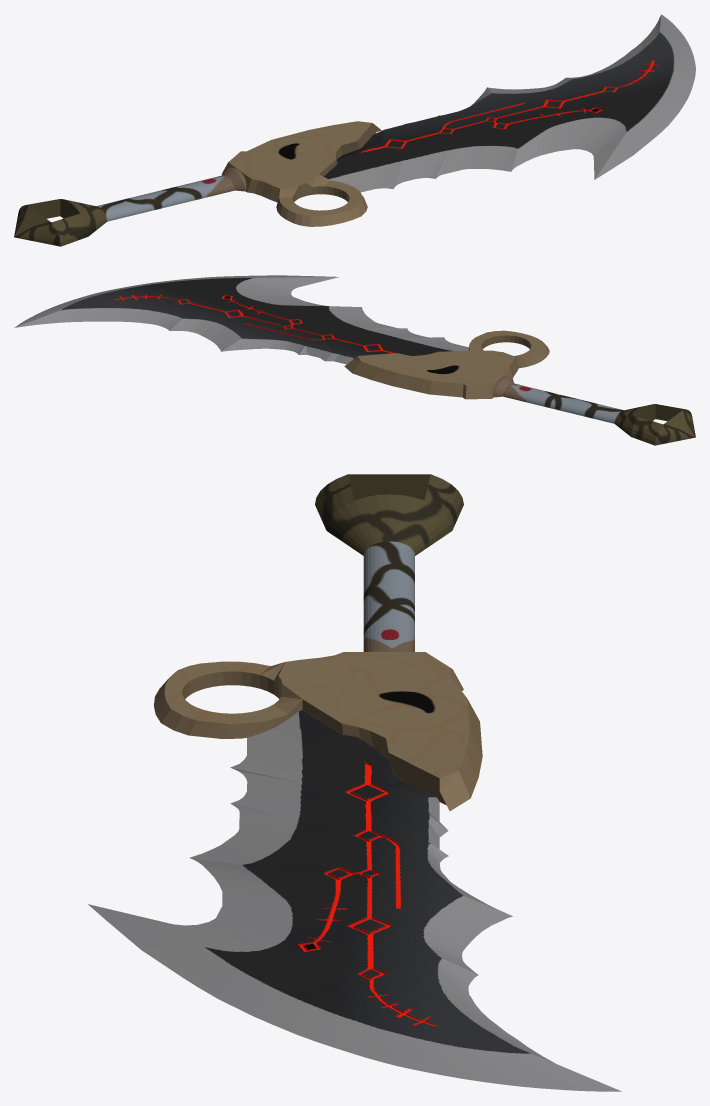
Rendered from Blades_of_Chaos.glb.
3 views of the same model, one above another, from view 1: azimuth 30°, elevation 25°; view 2: azimuth 150°, elevation 25°; view 3: azimuth 270°, elevation 25° (orthographic). The views are drawn at different scales.
Visible parts, largest first — view 1: КЛИНКИ; view 2: КЛИНКИ; view 3: КЛИНКИ.
Boxes of the visible parts, x1,y1,x2,y2 form: КЛИНКИ: (14,14,695,246); КЛИНКИ: (14,275,695,445); КЛИНКИ: (88,474,621,1091).
Bounding box in the file's own units: 82.63 × 2.32 × 30.7.
1 material, 1 textured.
